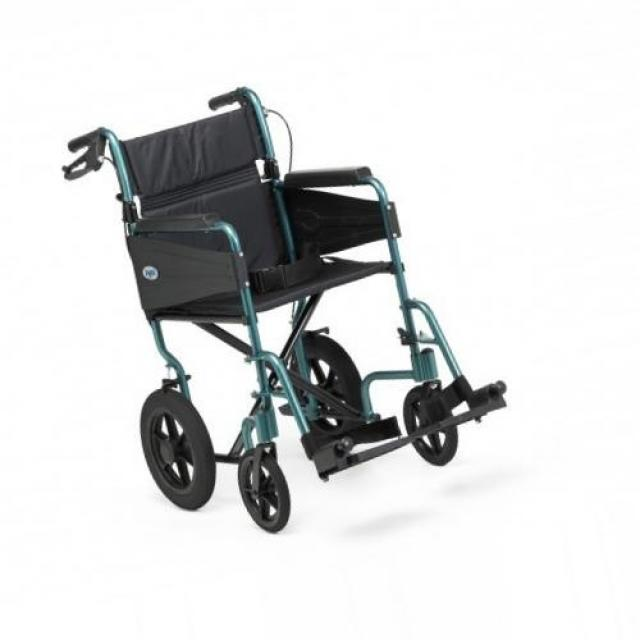wheelchair: (59, 59, 537, 543)
